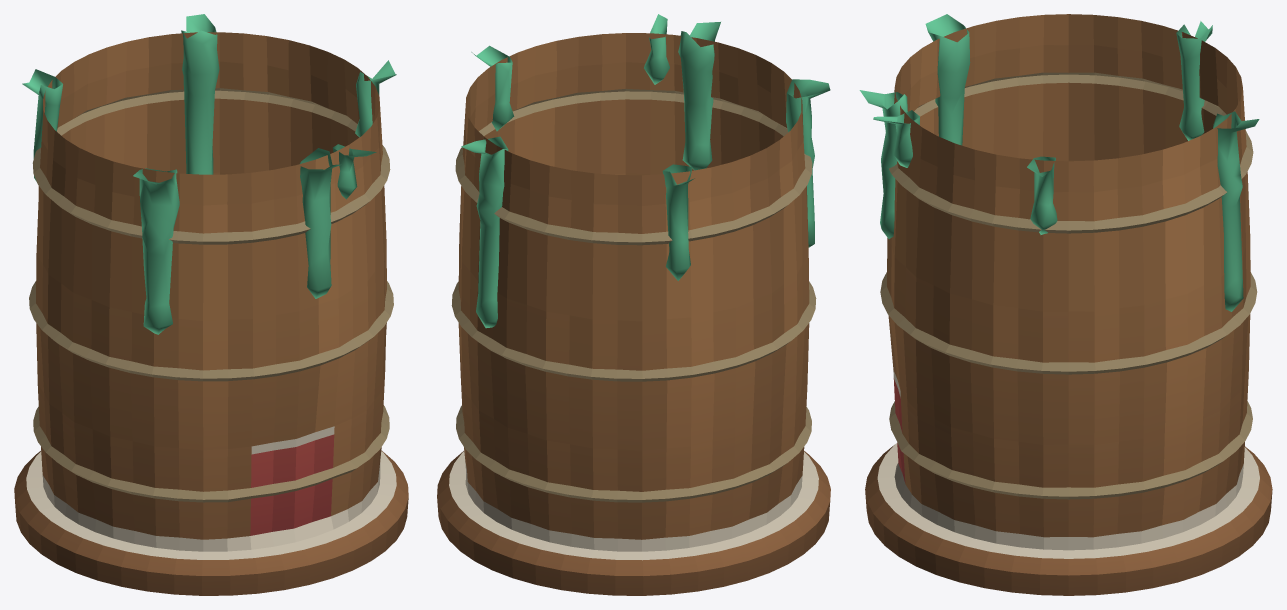
File: fountain_split_silo.fbx
3 renders of one model, left to right at view 1: azimuth 30°, elevation 25°; view 2: azimuth 150°, elevation 25°; view 3: azimuth 270°, elevation 25°, orthographic. The views are drawn at different scales.
Visible parts, largest first — view 1: fountain_split_silo; view 2: fountain_split_silo; view 3: fountain_split_silo.
Boxes of the visible parts, x1=… form: fountain_split_silo: x1=14, y1=14, x2=408, y2=595; fountain_split_silo: x1=437, y1=14, x2=830, y2=595; fountain_split_silo: x1=859, y1=14, x2=1272, y2=595.
Size of the model in its own units: 26.22 by 30.67 by 26.56.
